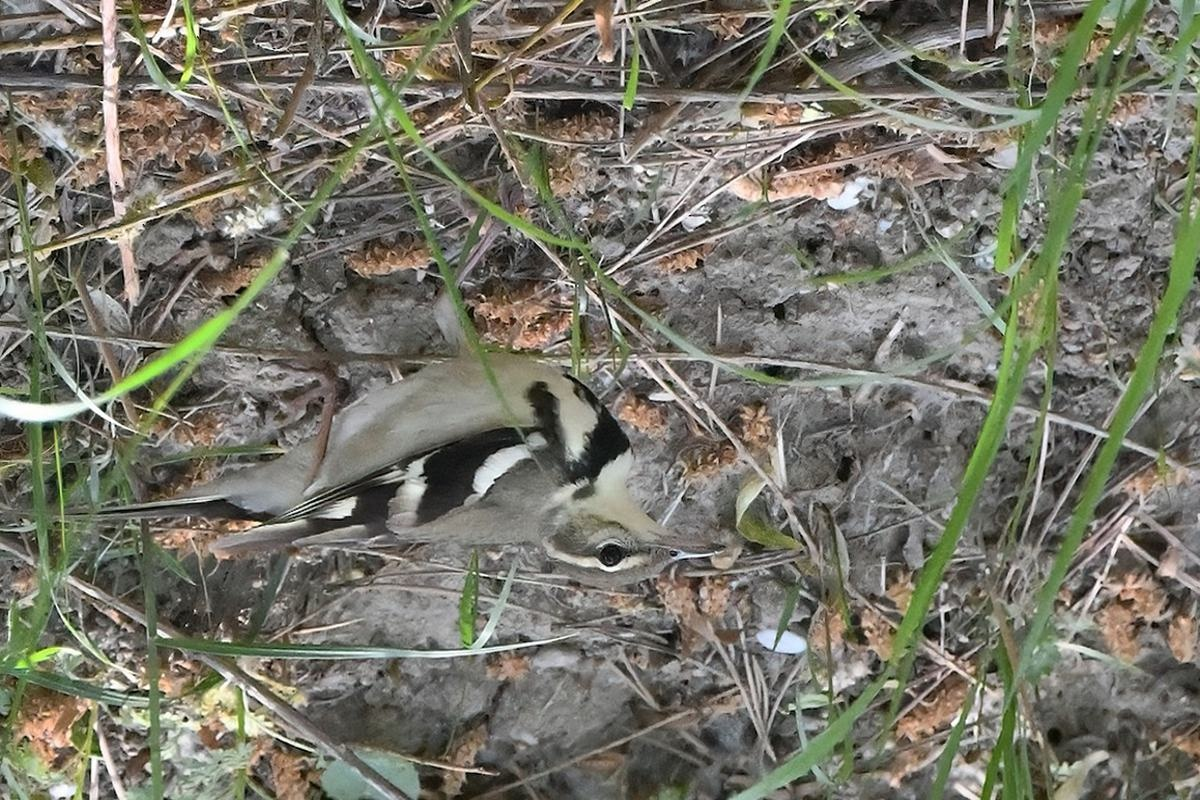wagtail: (186, 322, 743, 584)
